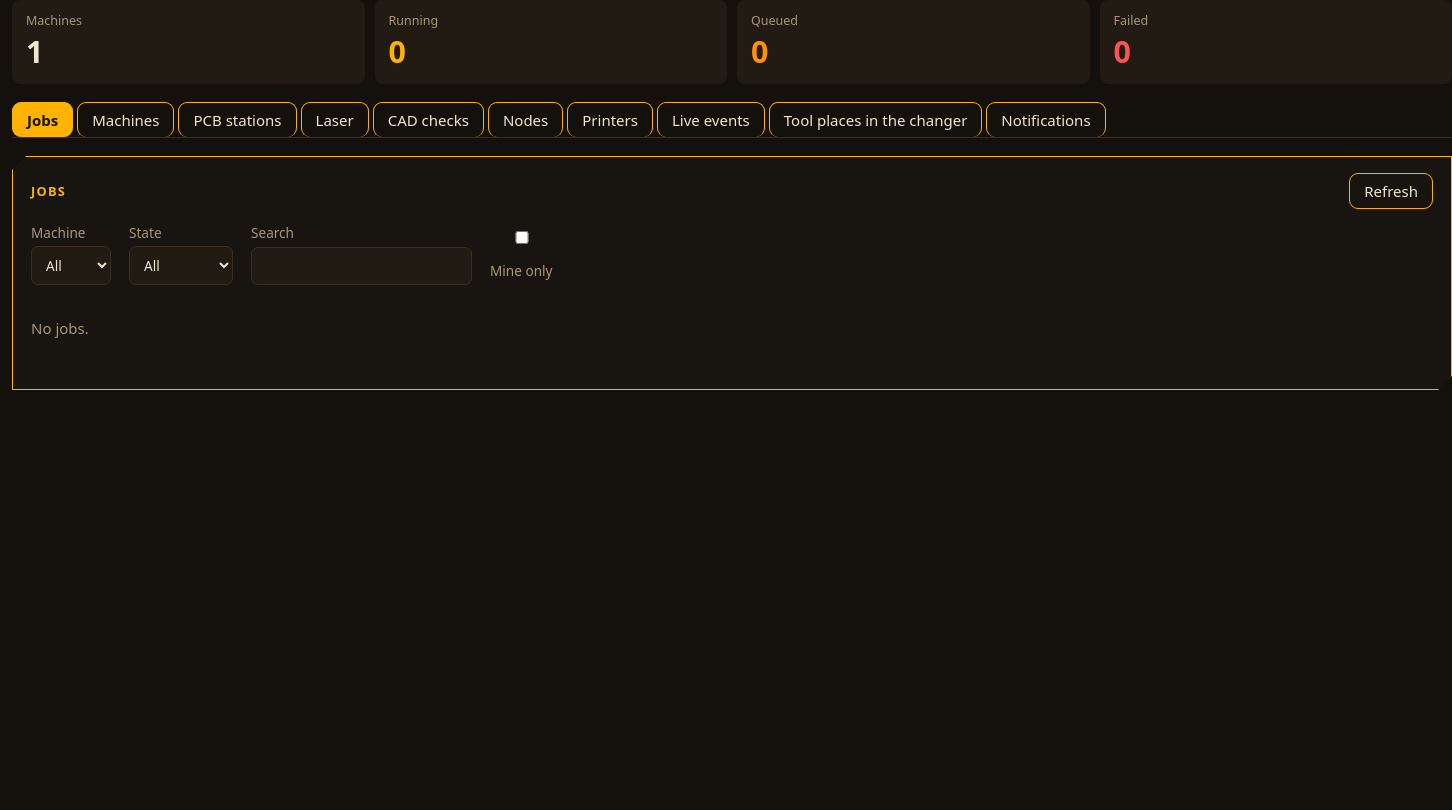
it: the tab of the nodes of the pick-and-place machines › says in the words of the server that the nodes are off, and shows the empty list
The image size is (1452, 810).
Click the tab "Nodes" at (526, 120), box 488,102 -> 563,137
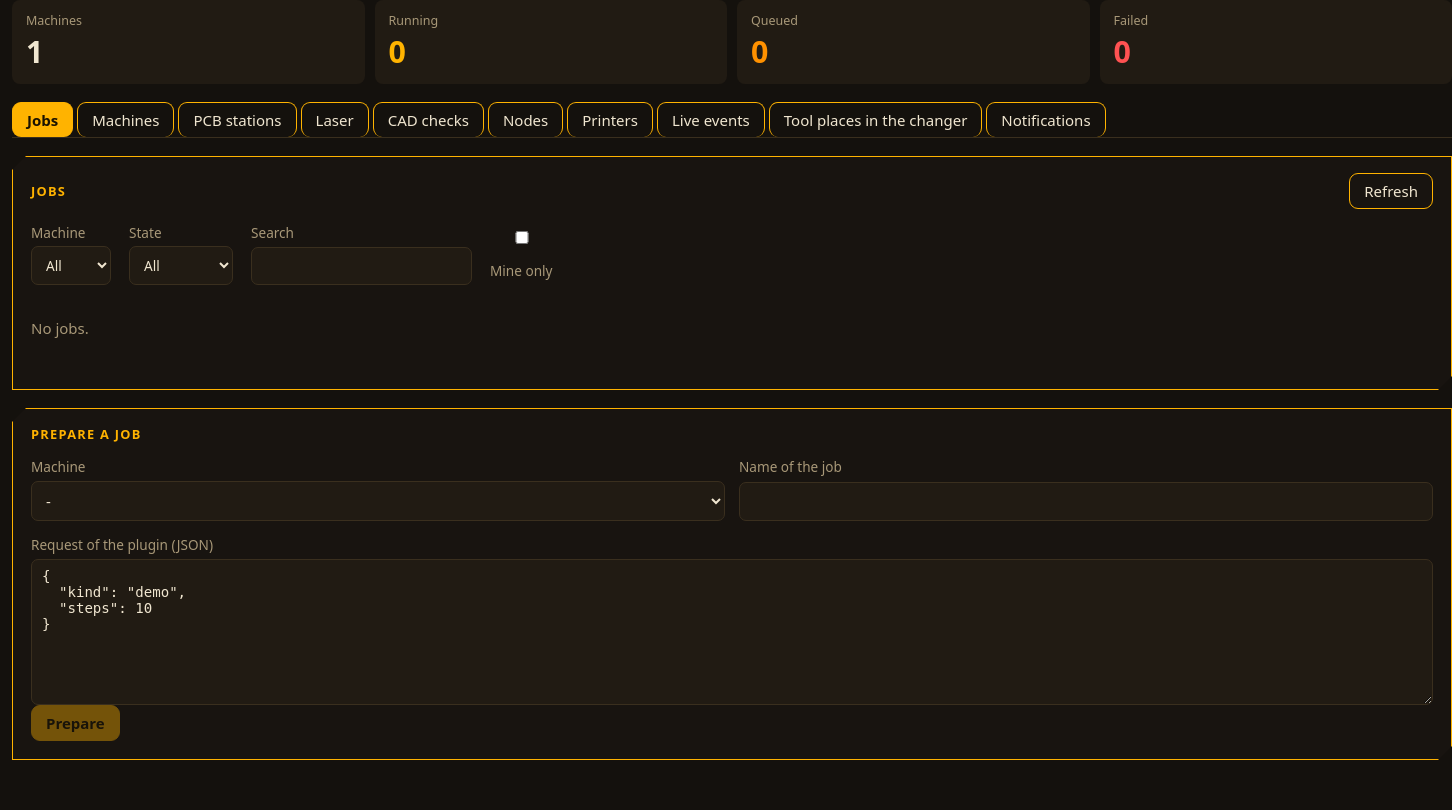
Click the tab "Nodes" at (526, 120), box 488,102 -> 563,137
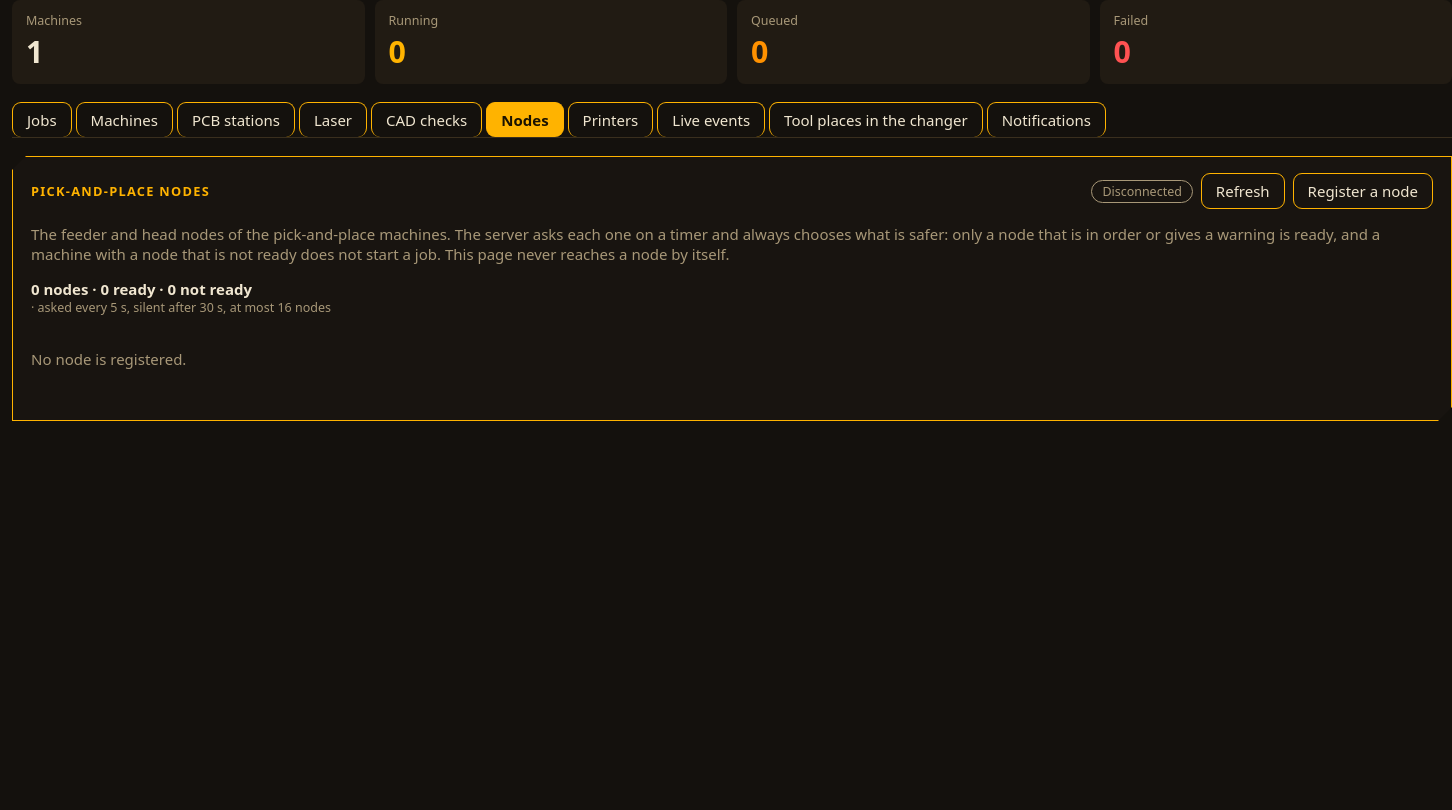
Now the button "Register a node" is shown, box 1293,173 -> 1433,209
